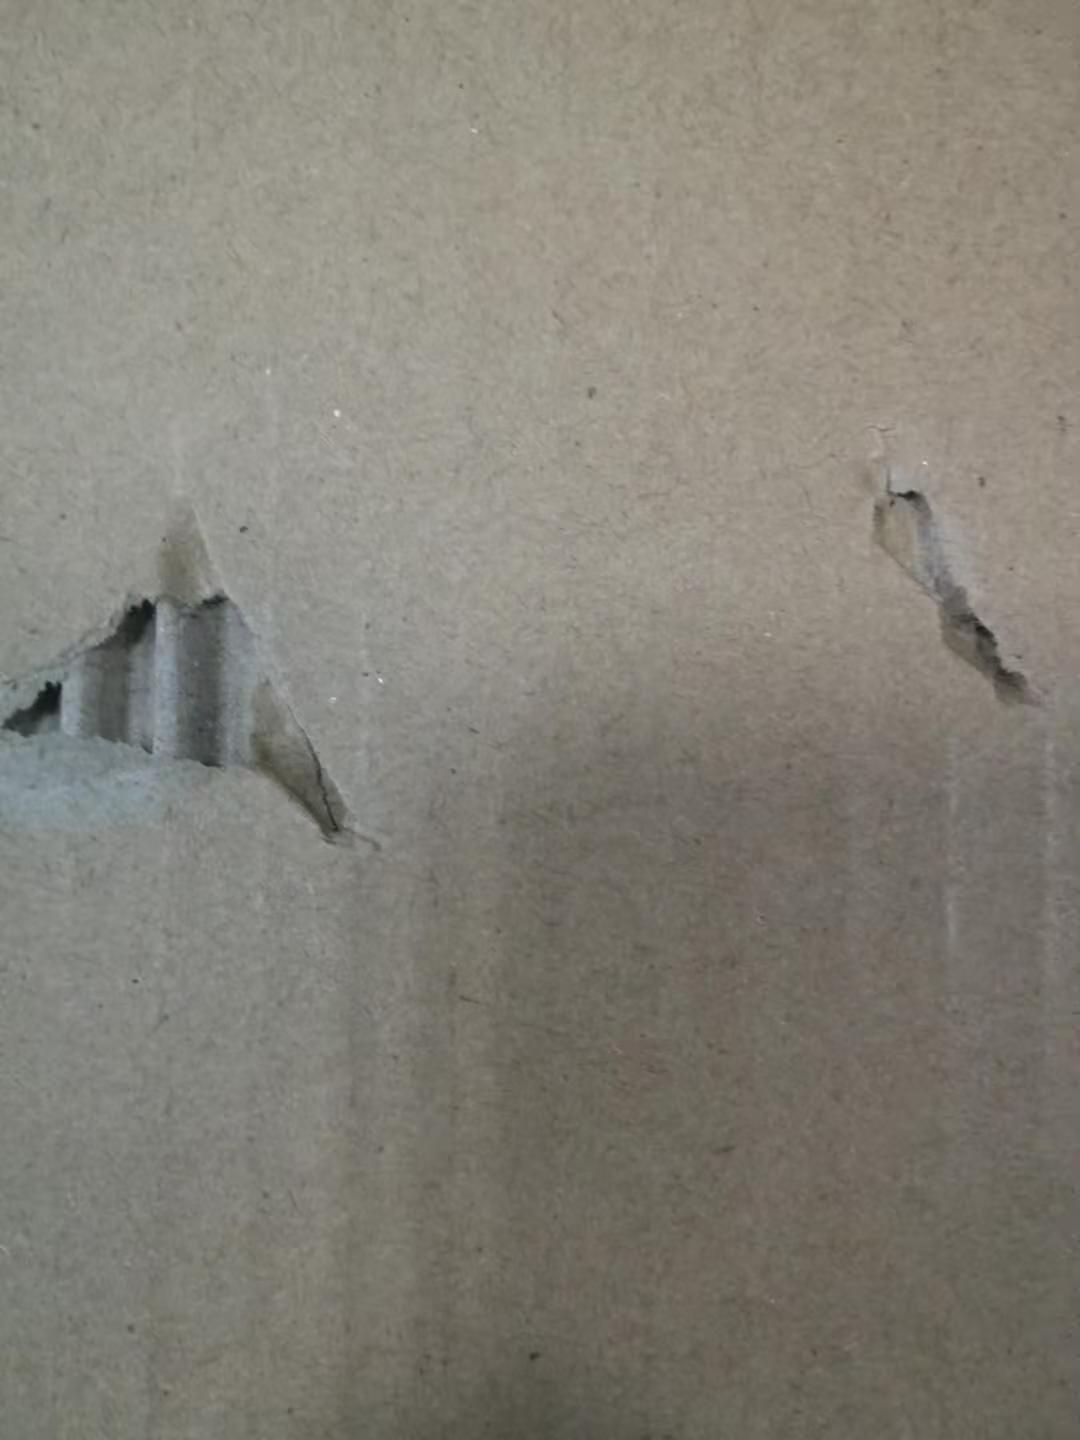defect: (1, 392, 422, 965), (803, 386, 1080, 759)
